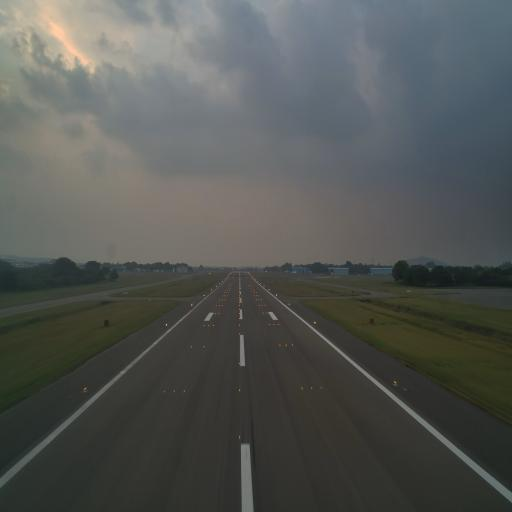on: (236, 385, 243, 397), (392, 378, 399, 390), (82, 382, 88, 395), (161, 386, 168, 397), (299, 382, 305, 394), (308, 383, 314, 392), (237, 431, 242, 441), (319, 383, 324, 393), (172, 386, 176, 398), (182, 385, 186, 396), (238, 360, 242, 368)
